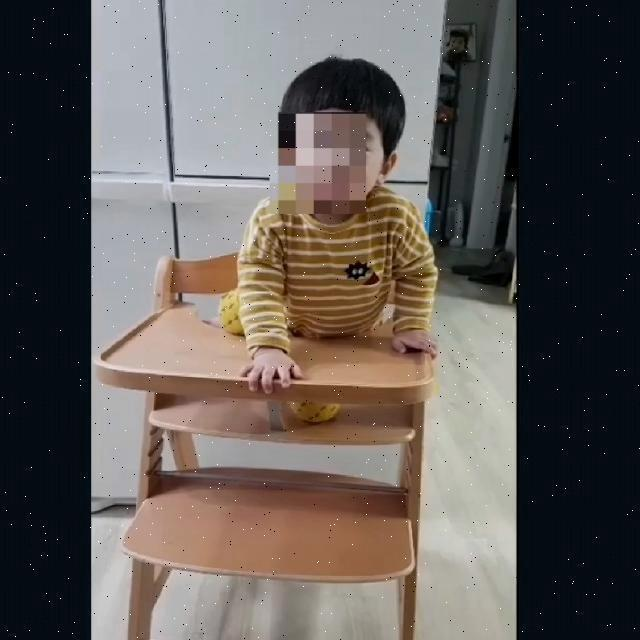child: (217, 58, 434, 424)
